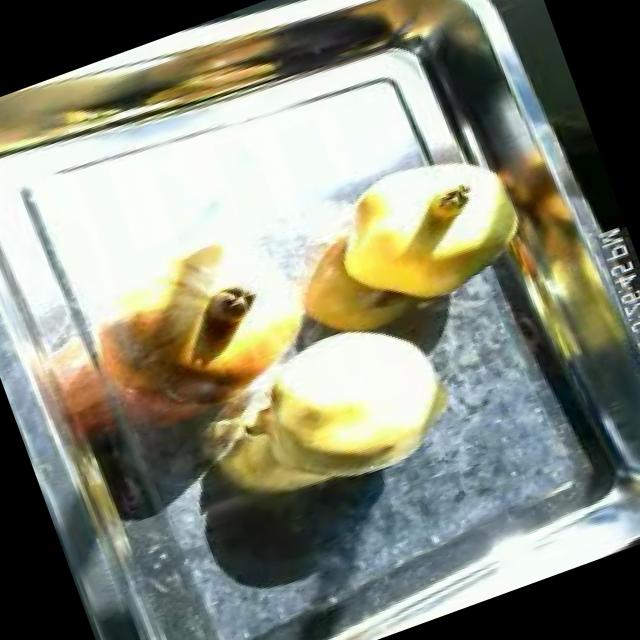fruit: (46, 197, 329, 453), (214, 288, 482, 521), (306, 123, 548, 334)
